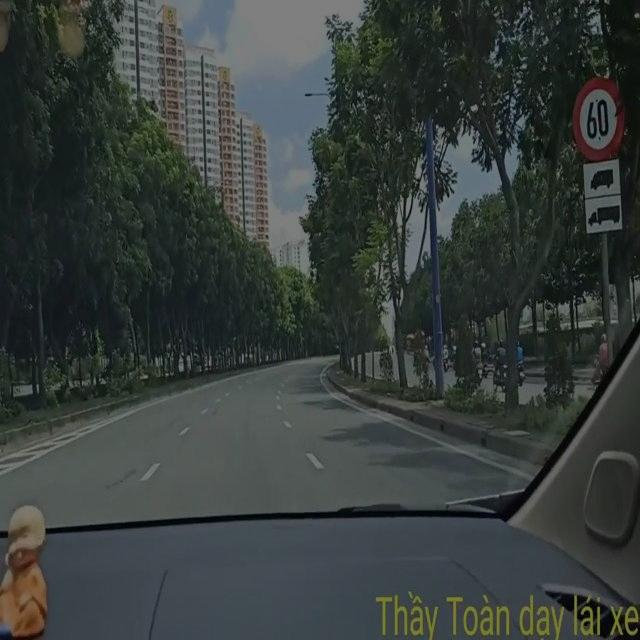Giới hạn tốc độ: 60Km/h: (574, 71, 626, 155)
